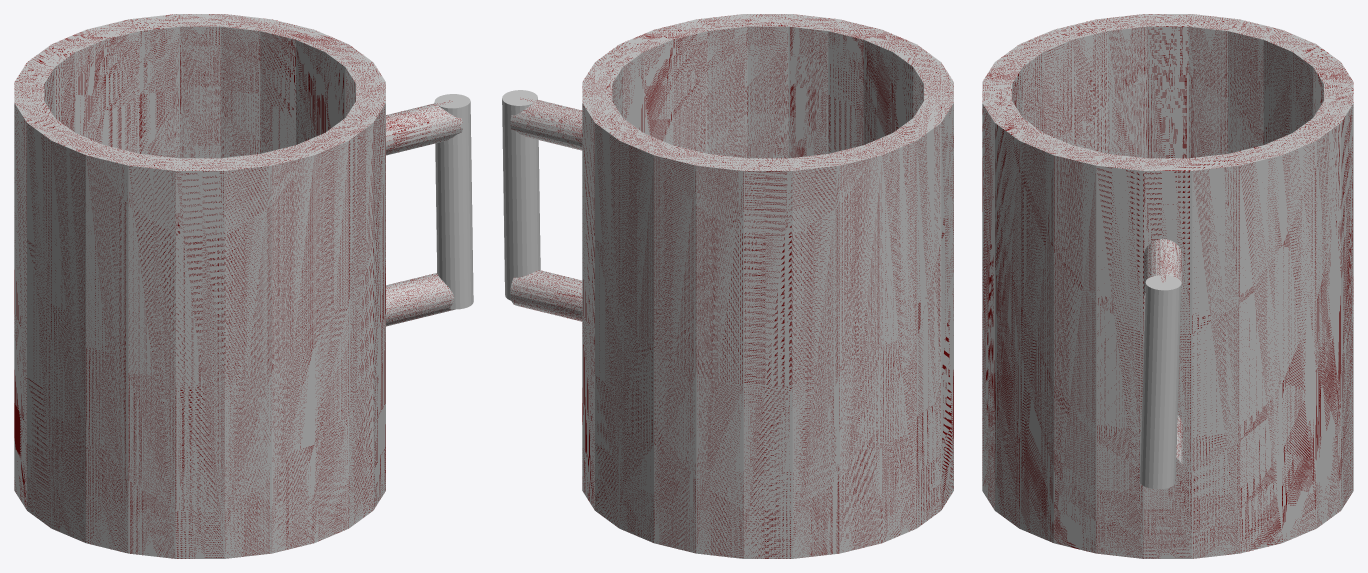
The picture shows the model from 3 angles, left to right: view 1: azimuth 30°, elevation 25°; view 2: azimuth 150°, elevation 25°; view 3: azimuth 270°, elevation 25°; orthographic projection.
Visible parts, largest first — view 1: mesh1_mesh1-geometry, mesh4_mesh4-geometry, mesh2_mesh2-geometry, mesh3_mesh3-geometry; view 2: mesh1_mesh1-geometry, mesh4_mesh4-geometry, mesh3_mesh3-geometry, mesh2_mesh2-geometry; view 3: mesh1_mesh1-geometry, mesh4_mesh4-geometry, mesh2_mesh2-geometry.
Boxes of the visible parts, x1,y1,x2,y2 form: mesh1_mesh1-geometry: (14, 14, 385, 558); mesh4_mesh4-geometry: (434, 94, 473, 309); mesh2_mesh2-geometry: (386, 100, 462, 155); mesh3_mesh3-geometry: (386, 273, 454, 326); mesh1_mesh1-geometry: (582, 14, 953, 558); mesh4_mesh4-geometry: (502, 90, 540, 300); mesh3_mesh3-geometry: (510, 270, 582, 321); mesh2_mesh2-geometry: (510, 97, 582, 150); mesh1_mesh1-geometry: (982, 14, 1353, 558); mesh4_mesh4-geometry: (1139, 275, 1181, 489); mesh2_mesh2-geometry: (1143, 239, 1182, 306).
Bounding box in the file's own units: 0.6561 × 0.5699 × 0.4948.
